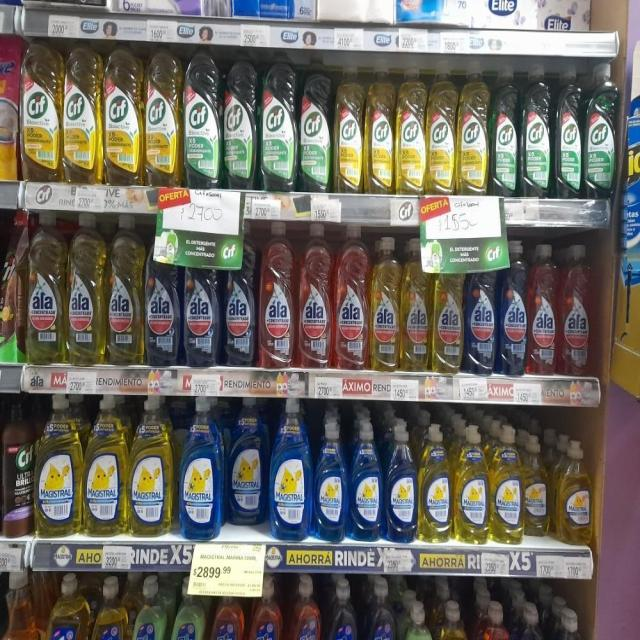ala_conc_amarillo: (26, 210, 65, 366), (67, 211, 105, 366), (107, 215, 143, 366), (370, 236, 400, 372), (432, 249, 464, 374), (401, 238, 430, 372)
ala_conc_azul: (145, 224, 181, 368), (222, 218, 256, 368), (465, 250, 498, 375), (182, 262, 220, 368), (499, 241, 528, 378)
ala_conc_rojo: (259, 219, 295, 369), (333, 223, 369, 372), (297, 221, 332, 370), (559, 243, 594, 378), (529, 242, 558, 378)
cif_conc_bot_amarilla: (21, 39, 61, 183), (62, 44, 101, 186), (104, 46, 142, 186), (144, 47, 181, 186), (458, 62, 489, 196), (396, 63, 426, 196), (334, 61, 364, 194), (427, 61, 456, 196), (366, 63, 394, 196)
cif_conc_botella_verde: (183, 48, 221, 189), (260, 54, 297, 192), (584, 62, 619, 200), (223, 52, 258, 189), (298, 54, 332, 193), (520, 64, 552, 200), (490, 65, 519, 198), (555, 65, 583, 200)
magistral_con_amarillo: (34, 393, 82, 538), (130, 394, 174, 538), (84, 394, 127, 537), (454, 423, 489, 544), (418, 422, 452, 543), (556, 438, 593, 544), (490, 425, 522, 545), (524, 432, 552, 538), (550, 608, 588, 640)
magistral_con_azul: (178, 394, 224, 540), (270, 398, 312, 542), (227, 395, 268, 528), (314, 414, 348, 542), (349, 416, 383, 542), (385, 418, 417, 543)
zorro: (46, 571, 89, 640), (130, 574, 167, 640), (248, 575, 284, 640), (170, 577, 207, 640), (92, 573, 126, 640), (288, 574, 322, 640), (326, 574, 360, 640), (363, 577, 396, 640), (210, 583, 245, 640), (474, 600, 512, 640), (436, 600, 472, 640), (399, 600, 434, 640), (514, 601, 546, 640)
